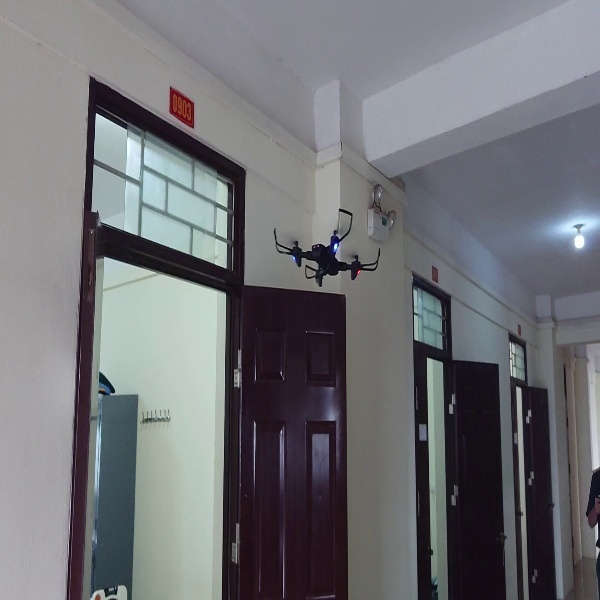drone: (271, 206, 382, 288)
